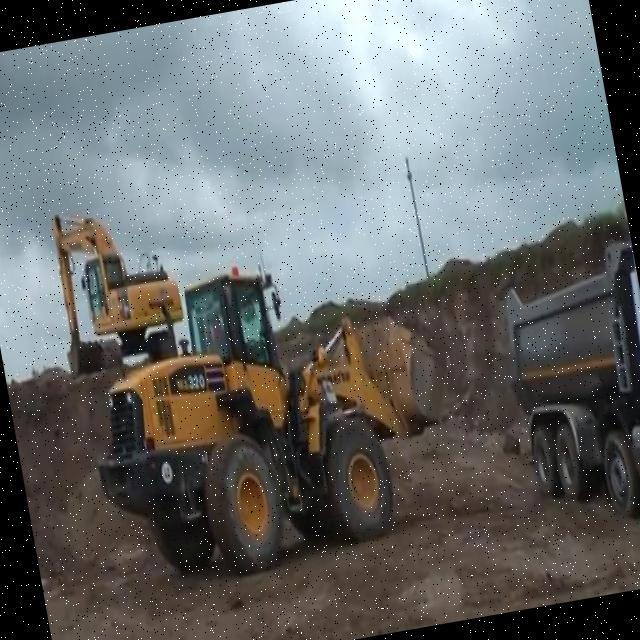Dump Truck: (481, 207, 640, 554)
Excavator: (41, 194, 190, 377)
Loader: (66, 228, 480, 594)
